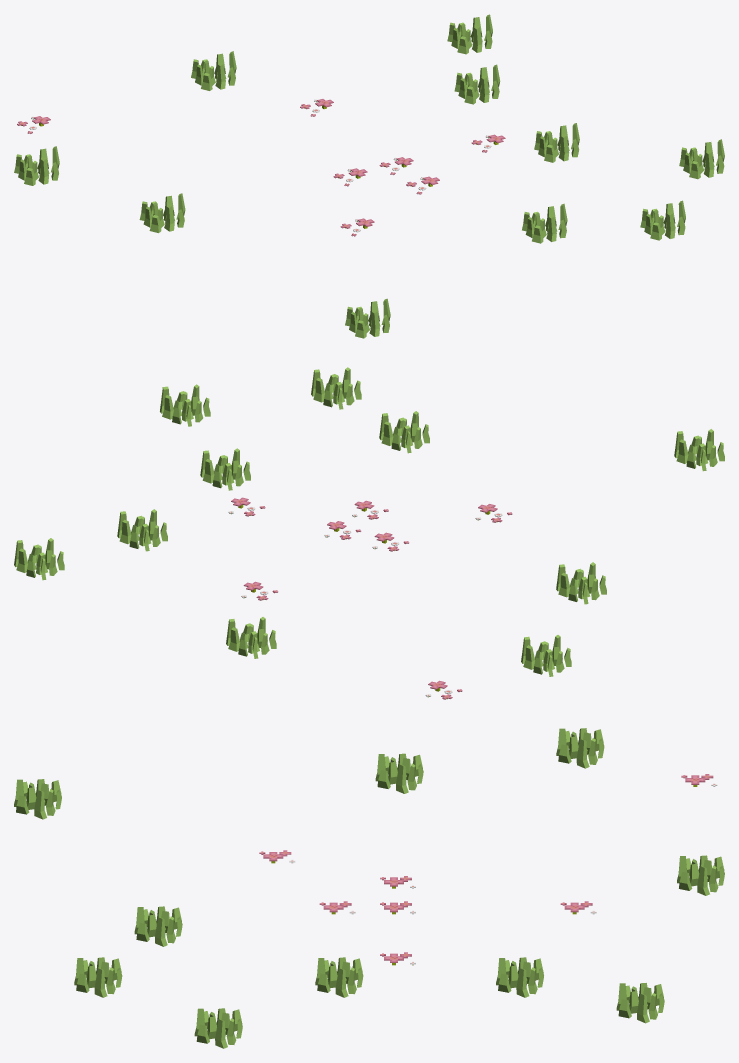
File: flower_grass 6.fbx
The picture shows the model from 3 angles, top to bottom: view 1: azimuth 30°, elevation 25°; view 2: azimuth 150°, elevation 25°; view 3: azimuth 270°, elevation 25°; orthographic projection. The views are drawn at different scales.
Visible parts, largest first — view 1: Flower_B_1; view 2: Flower_B_1; view 3: Flower_B_1.
Part boxes in pixels (box(x1,y1,x2,y2)): Flower_B_1: box(14, 14, 724, 338); Flower_B_1: box(14, 367, 724, 699); Flower_B_1: box(14, 728, 724, 1048).
Bounding box in the file's own units: 7146 × 294 × 7079.
2 materials, 2 textured.
